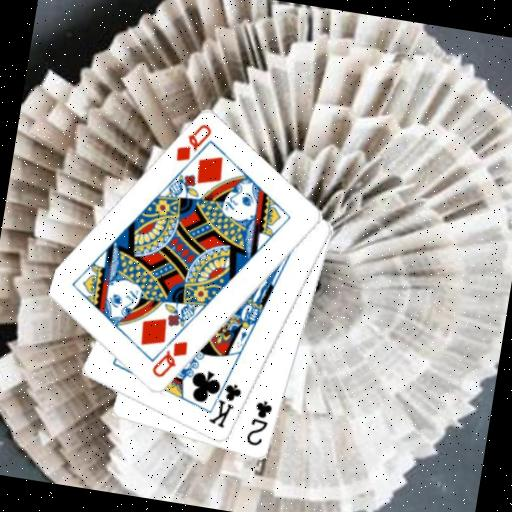2C: (242, 396, 275, 450)
KC: (203, 370, 246, 432)
QD: (171, 117, 215, 168), (147, 333, 191, 383)
